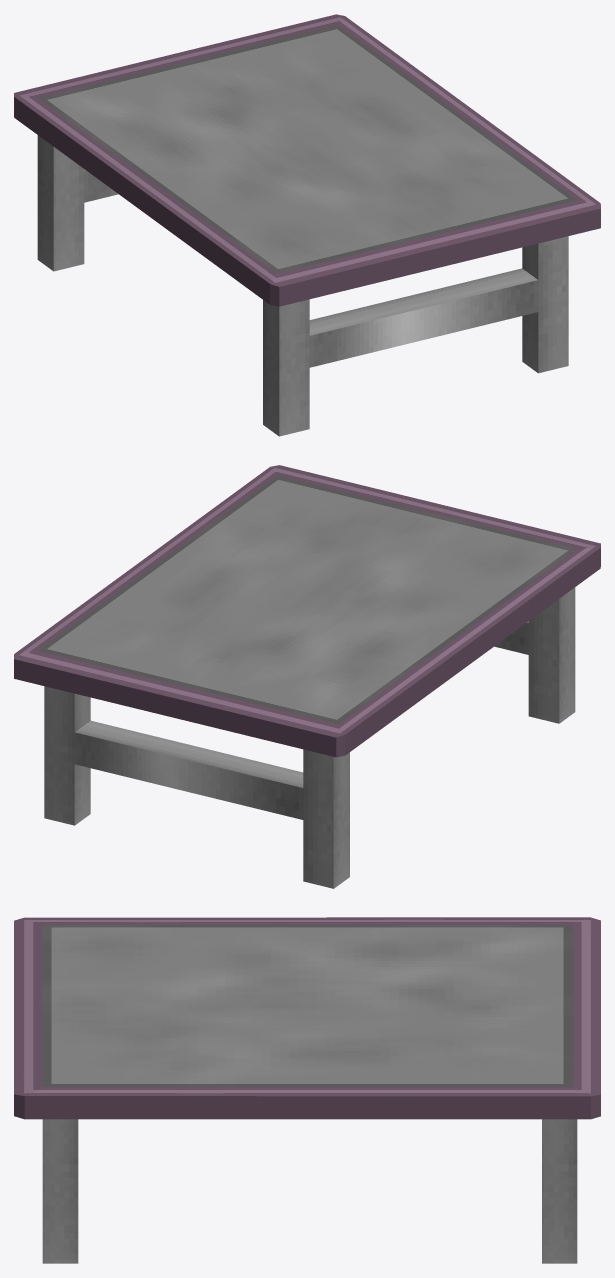
The model's file is game1Table.glb.
The picture shows the model from 3 angles, top to bottom: view 1: azimuth 30°, elevation 25°; view 2: azimuth 150°, elevation 25°; view 3: azimuth 270°, elevation 25°; orthographic projection. The views are drawn at different scales.
Parts seen in each view (by area): view 1: Cube.005; view 2: Cube.005; view 3: Cube.005.
Boxes of the visible parts, <box> form: Cube.005: <box>14,14,600,436</box>; Cube.005: <box>14,465,600,888</box>; Cube.005: <box>14,917,600,1263</box>.
Size of the model in its own units: 4.86 by 2.3 by 6.74.
3 materials, 3 textured.
